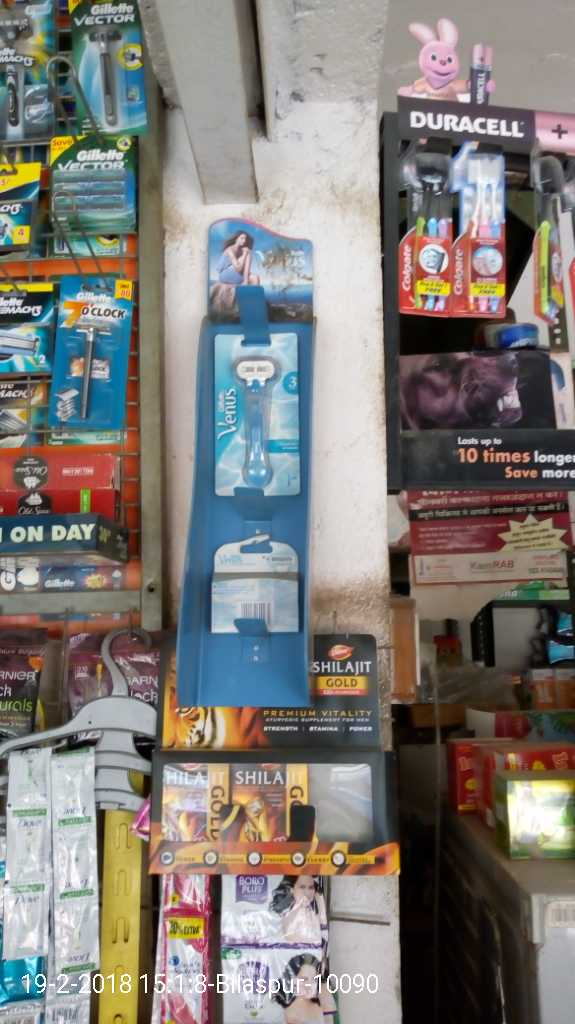beauty: (211, 314, 306, 499), (53, 283, 136, 436), (67, 5, 147, 142), (38, 135, 139, 241), (205, 550, 305, 639)
